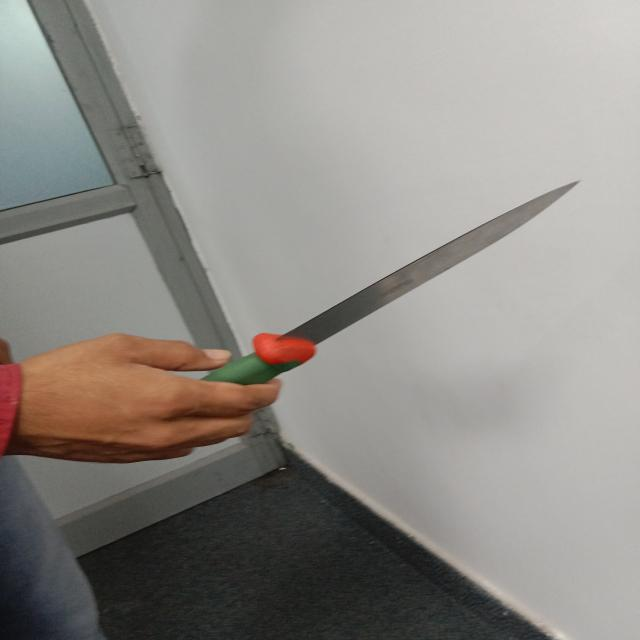Knife: (201, 181, 578, 385)
